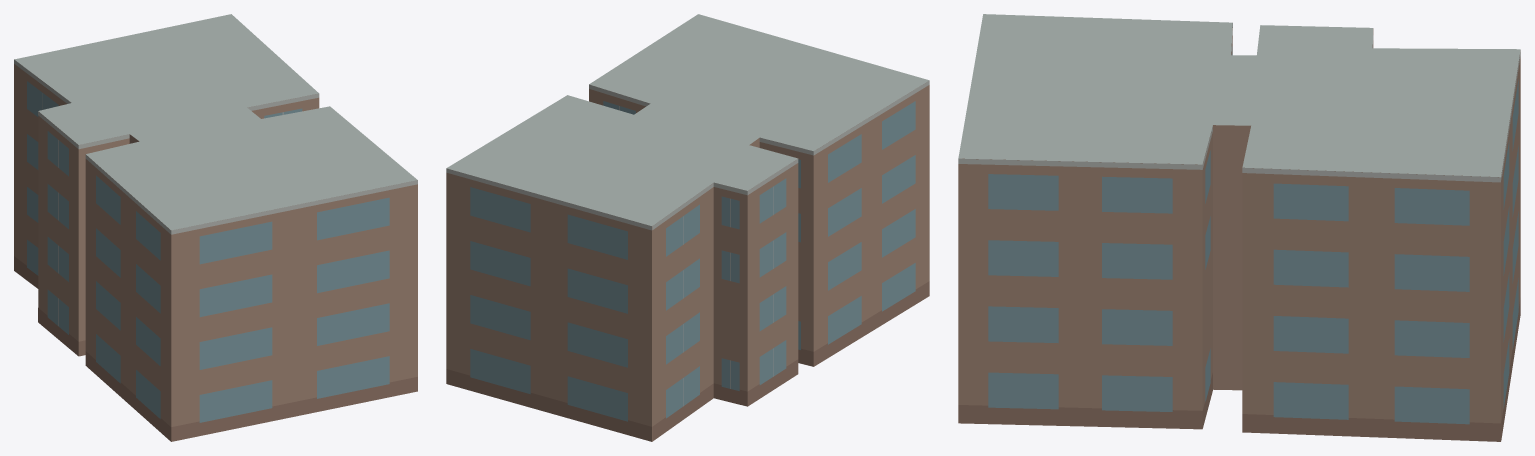
The model's file is survey-upis-32994713.glb.
3 views of the same model, side by side, from view 1: azimuth 30°, elevation 25°; view 2: azimuth 150°, elevation 25°; view 3: azimuth 270°, elevation 25° (orthographic). The views are drawn at different scales.
Parts seen in each view (by area): view 1: survey-upis-32994713.tmp; view 2: survey-upis-32994713.tmp; view 3: survey-upis-32994713.tmp.
Part boxes in pixels (x1=…): survey-upis-32994713.tmp: x1=14, y1=14, x2=417, y2=441; survey-upis-32994713.tmp: x1=446, y1=14, x2=929, y2=441; survey-upis-32994713.tmp: x1=958, y1=14, x2=1520, y2=441.
Size of the model in its own units: 16.14 by 12.2 by 23.5.
